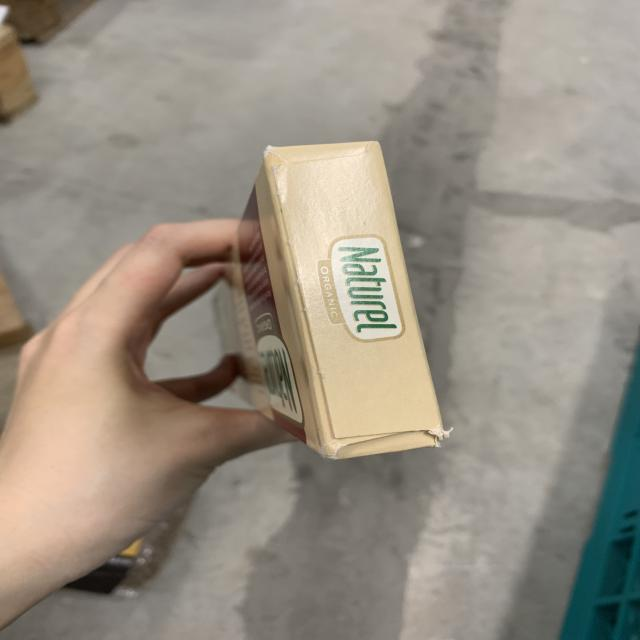object_name: (204, 162, 436, 459)
